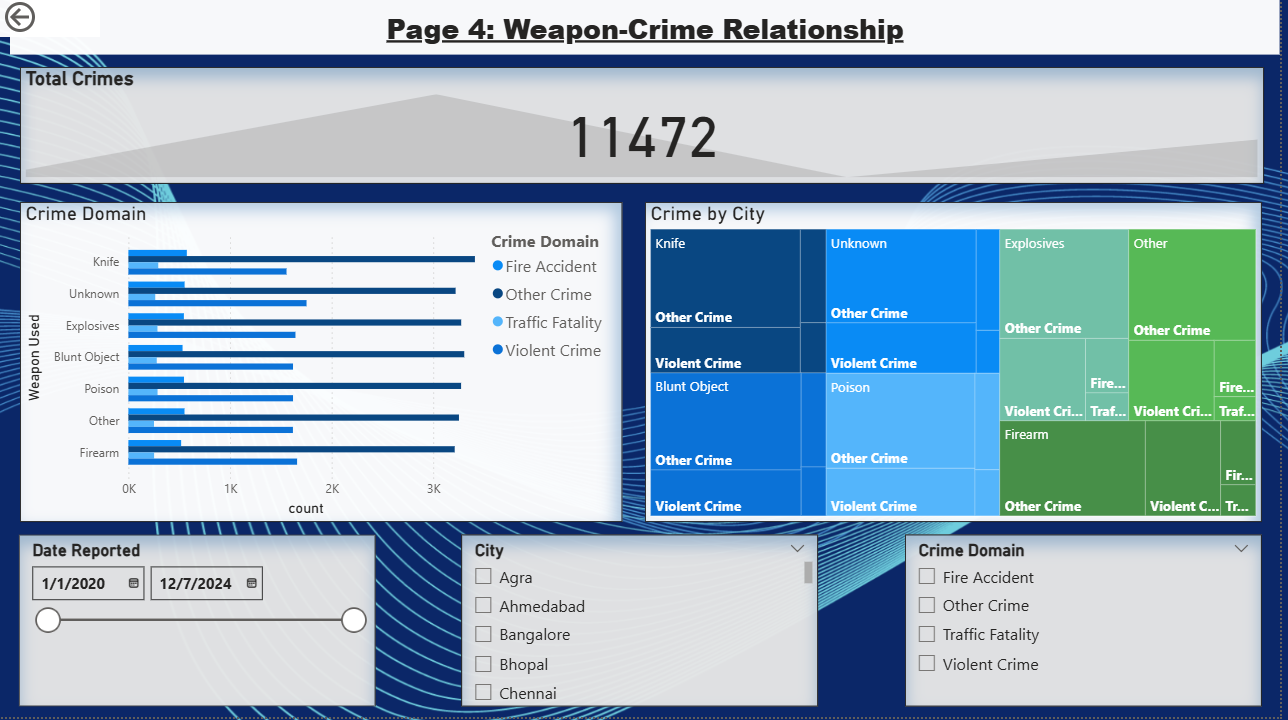

Layout of this report page (visuals, bound fields, positions):
{"tool":"powerbi","page":{"name":"Duplicate of Duplicate of Duplicate of Page 1","canvas":[1280,720],"ordinal":3},"visuals":[{"type":"textbox","box":[9.8,0,1269.9,57.7],"z":0},{"type":"kpi","title":"Total Crimes","fields":{"Indicator":["cleaned_indian_crimes.count"],"TrendLine":["cleaned_indian_crimes.Crime Domain"]},"box":[19.6,69.9,1244.2,116.6],"z":1000},{"type":"clusteredBarChart","title":"Crime Domain","fields":{"Category":["cleaned_indian_crimes.Weapon Used"],"Y":["cleaned_indian_crimes.count"],"Series":["cleaned_indian_crimes.Crime Domain"]},"box":[19.6,204.9,602.5,320.2],"z":2000},{"type":"treemap","title":"Crime by City ","fields":{"Details":["cleaned_indian_crimes.Crime Domain"],"Values":["cleaned_indian_crimes.count"],"Group":["cleaned_indian_crimes.Weapon Used"]},"box":[645.4,204.9,617.2,320.2],"z":3000},{"type":"actionButton","box":[0,0,100,40],"z":4000},{"type":"slicer","title":"Total Crimes","fields":{"Values":["cleaned_indian_crimes.Date Reported"]},"box":[18.4,537.4,357.1,171.8],"z":5000},{"type":"slicer","title":"Total Crimes","fields":{"Values":["cleaned_indian_crimes.City"]},"box":[461.4,537.4,357.1,171.8],"z":6000},{"type":"slicer","title":"Total Crimes","fields":{"Values":["cleaned_indian_crimes.Crime Domain"]},"box":[905.5,537.4,357.1,171.8],"z":7000}]}

Visuals, with their boxes in screenshot pixels (x1, y1, x2, y2), scaled from the page's 1280x720 canvas onto the 1288x720 screenshot:
textbox: (left=10, top=0, right=1287, bottom=58)
"Total Crimes" kpi: (left=20, top=70, right=1272, bottom=186)
"Crime Domain" clusteredBarChart: (left=20, top=205, right=626, bottom=525)
"Crime by City " treemap: (left=649, top=205, right=1270, bottom=525)
actionButton: (left=0, top=0, right=101, bottom=40)
"Total Crimes" slicer: (left=19, top=537, right=378, bottom=709)
"Total Crimes" slicer: (left=464, top=537, right=824, bottom=709)
"Total Crimes" slicer: (left=911, top=537, right=1270, bottom=709)
